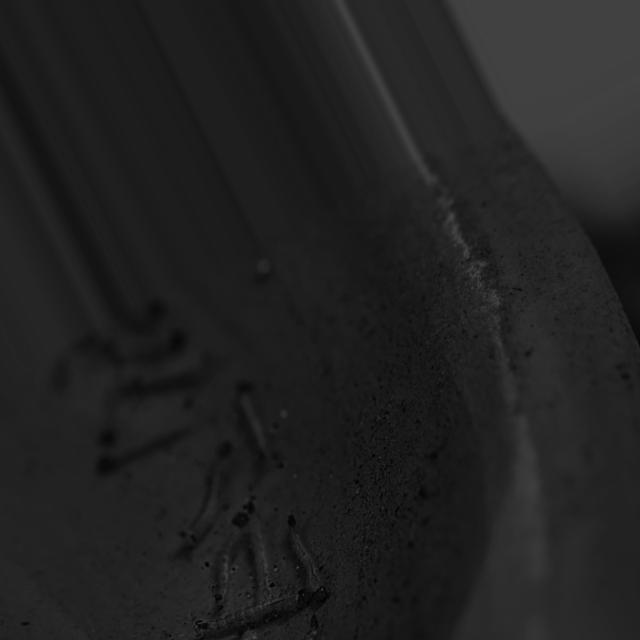larvas: (54, 315, 186, 379), (97, 395, 193, 478), (113, 358, 212, 401), (188, 446, 230, 538), (196, 595, 307, 628), (290, 517, 331, 597), (244, 501, 271, 595), (218, 512, 243, 595), (234, 618, 322, 640), (240, 390, 267, 449), (101, 399, 120, 448)
